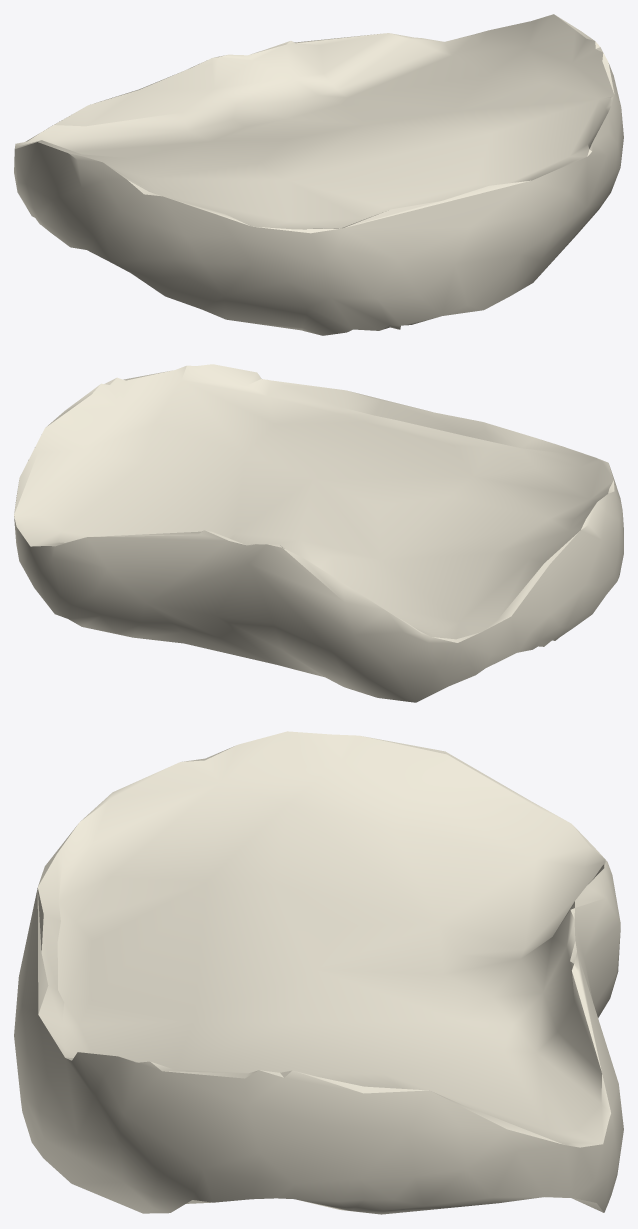
File: fma13896_fj3213.glb
3 views of the same model, one above another, from view 1: azimuth 30°, elevation 25°; view 2: azimuth 150°, elevation 25°; view 3: azimuth 270°, elevation 25° (orthographic). The views are drawn at different scales.
Parts seen in each view (by area): view 1: FMA13896_FJ3213; view 2: FMA13896_FJ3213; view 3: FMA13896_FJ3213.
Boxes of the visible parts, x1,y1,x2,y2 form: FMA13896_FJ3213: (14, 14, 623, 335); FMA13896_FJ3213: (14, 364, 623, 702); FMA13896_FJ3213: (14, 731, 623, 1214).
Size of the model in its own units: 0.0226 by 0.00618 by 0.016.
